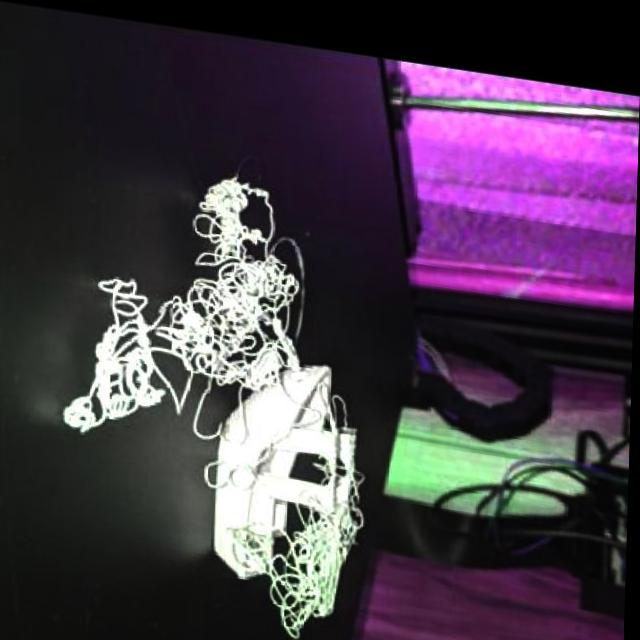spaghetti: (64, 140, 317, 463), (203, 355, 374, 640)
